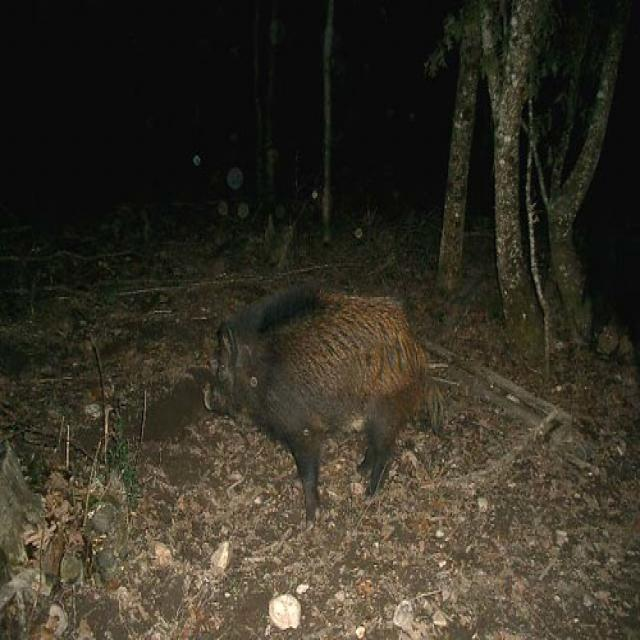boar: (185, 256, 463, 520)
